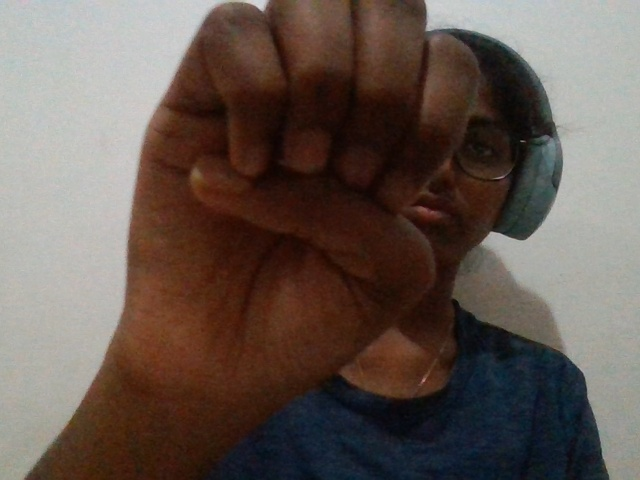E: (74, 1, 500, 480)
